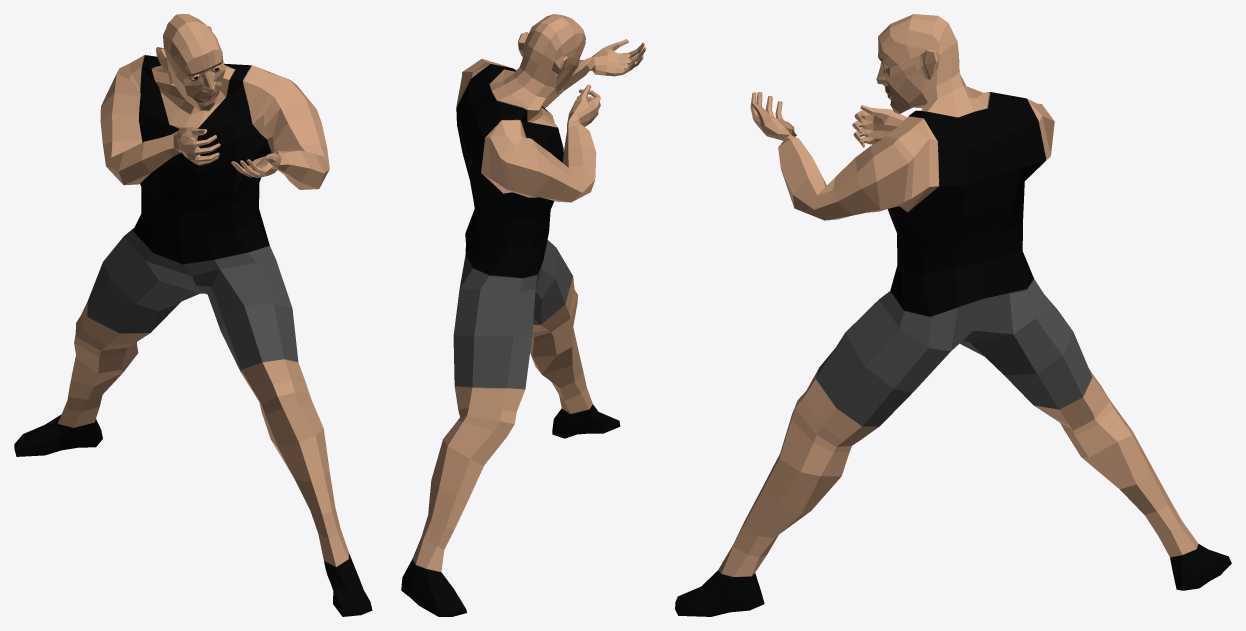
Rendered from PlayerShoot(9).obj.
3 views of the same model, side by side, from view 1: azimuth 30°, elevation 25°; view 2: azimuth 150°, elevation 25°; view 3: azimuth 270°, elevation 25° (orthographic). The views are drawn at different scales.
Visible parts, largest first — view 1: Plane002; view 2: Plane002; view 3: Plane002.
Boxes of the visible parts, x1,y1,x2,y2 form: Plane002: [14, 14, 372, 616]; Plane002: [401, 14, 646, 616]; Plane002: [675, 14, 1231, 616].
Bounding box in the file's own units: 538 × 1638 × 1469.
